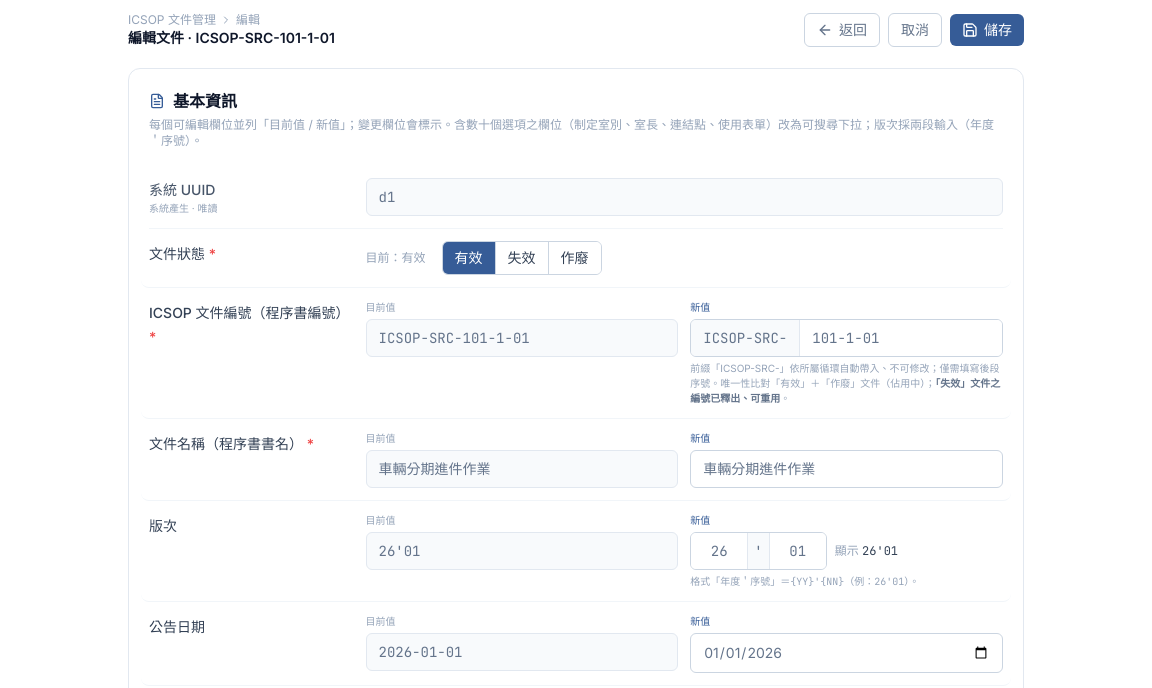
Test: F011 AC-D2～AC-D5：版次輸入互動（編輯頁） › TS-F011-D2-001 序號框依序鍵入 `0`、`1` → value 依序為 "0"、"01"（擊鍵過程不補零、不截斷）
Clear the field named "版次序號" at (798, 551), box x1=770 y1=533 x2=826 y2=569
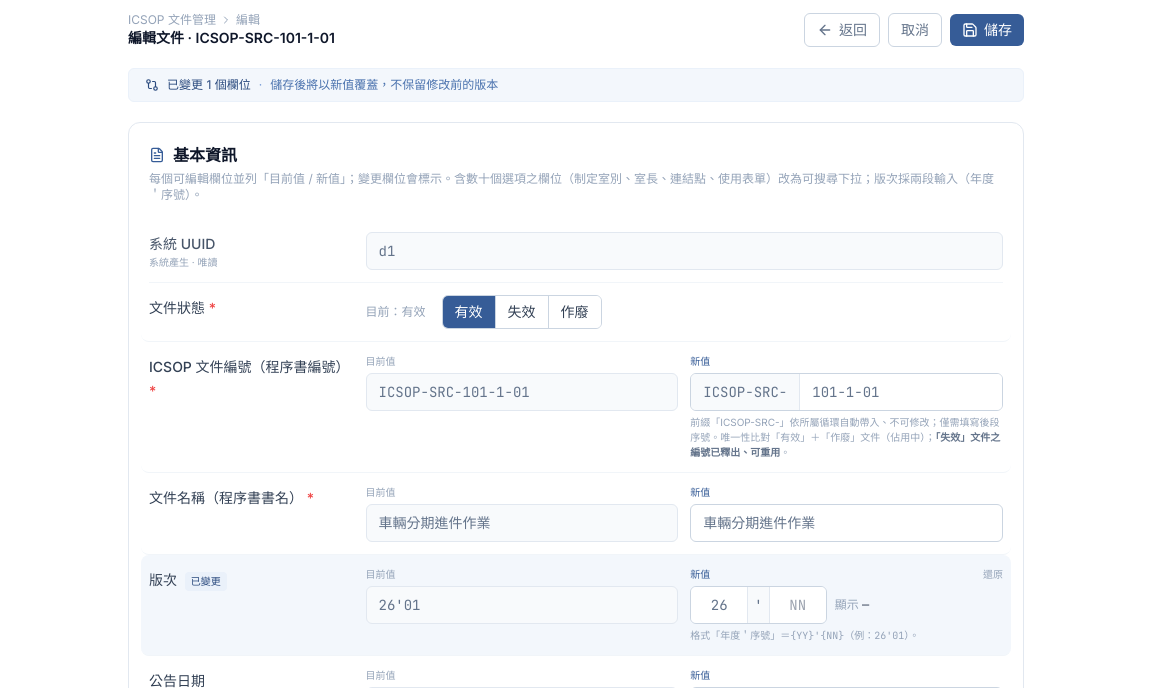
Type "0" into the field named "版次序號" at (798, 605), box x1=770 y1=587 x2=826 y2=623
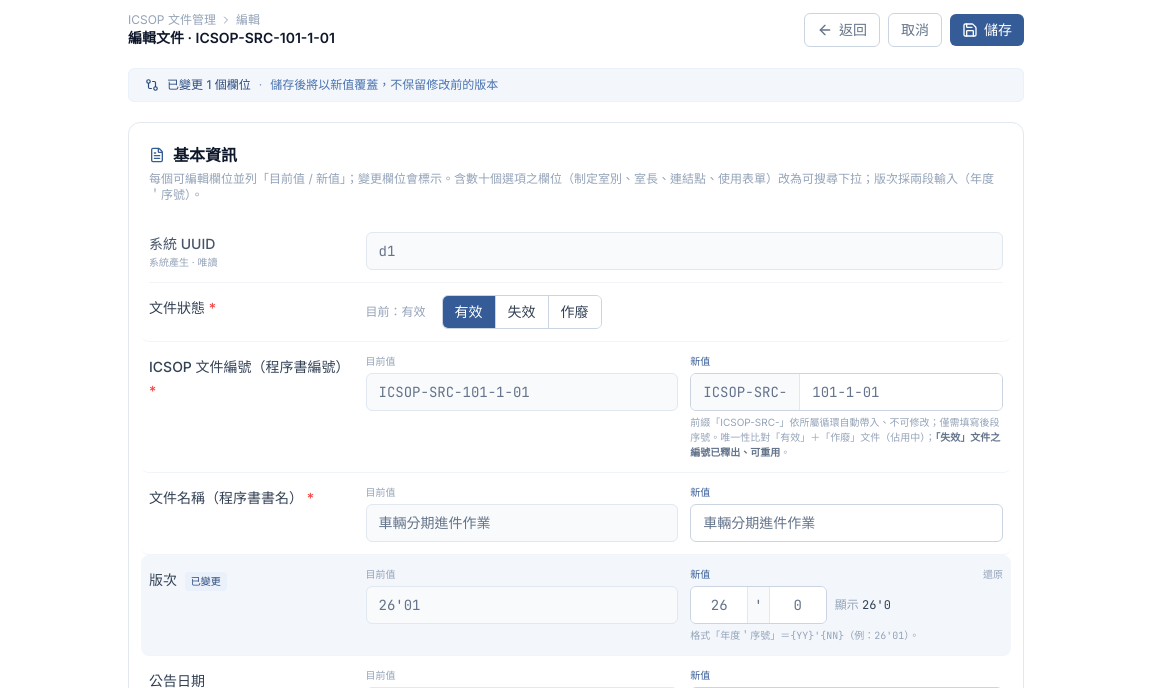
Type "1" into the field named "版次序號" at (798, 605), box x1=770 y1=587 x2=826 y2=623
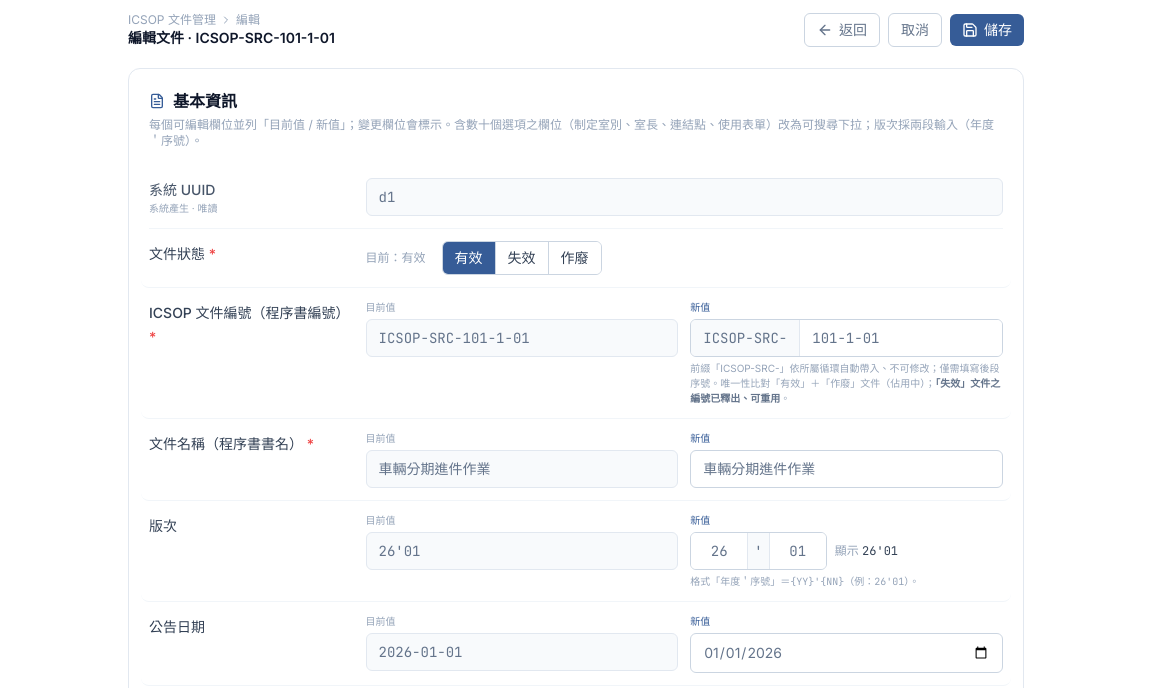
Expected: the field named "版次序號" holds "01", x1=770 y1=533 x2=826 y2=569
